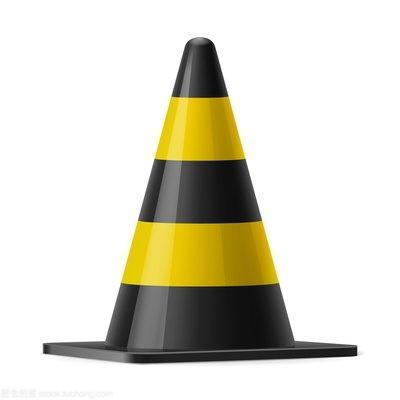cone_barrel: (90, 35, 304, 349)
